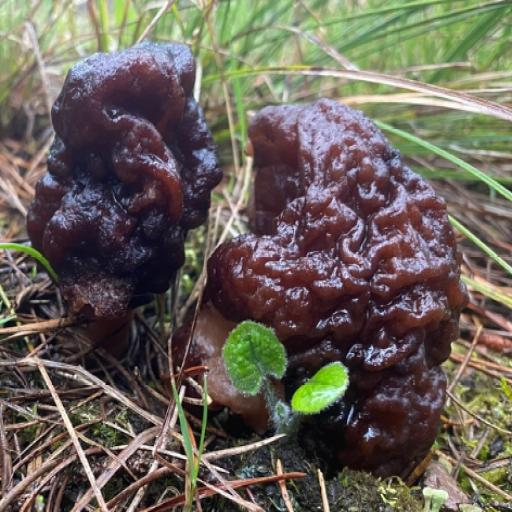False Morel: (171, 93, 512, 467), (28, 46, 224, 361)
